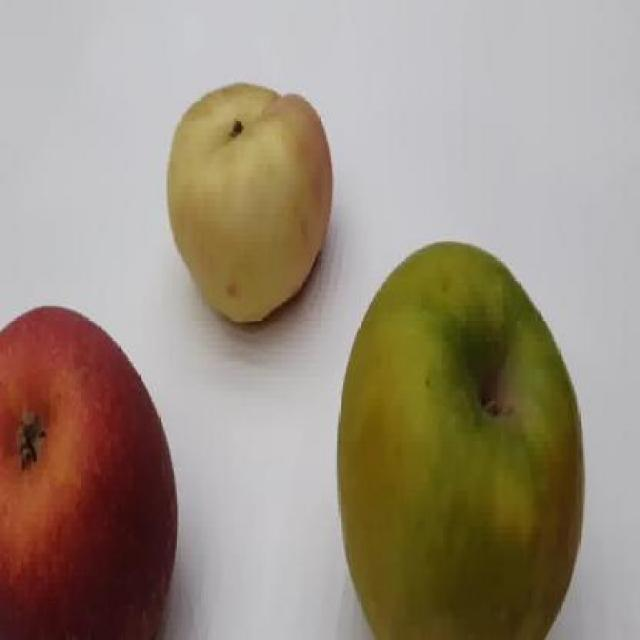Fresh Apple: (176, 87, 328, 306)
Rotten: (333, 258, 605, 640)
